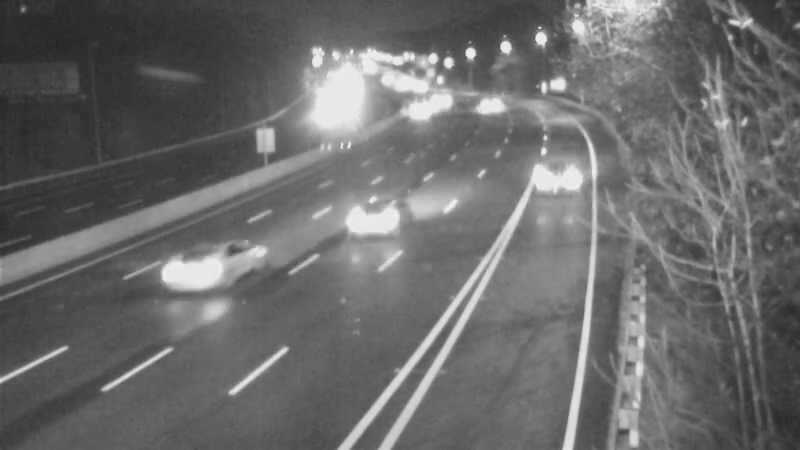vehicle: (516, 137, 596, 217), (341, 175, 421, 255), (159, 241, 239, 321), (413, 71, 463, 121), (458, 77, 508, 127), (383, 88, 433, 138)
